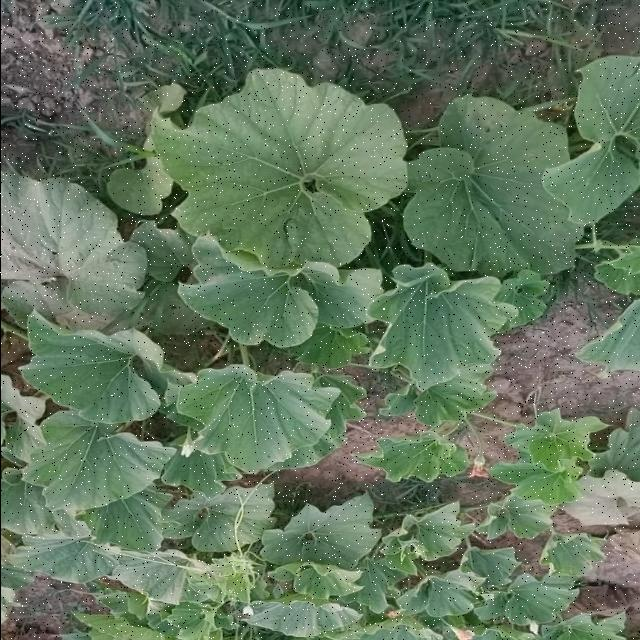plant: (2, 56, 640, 640)
